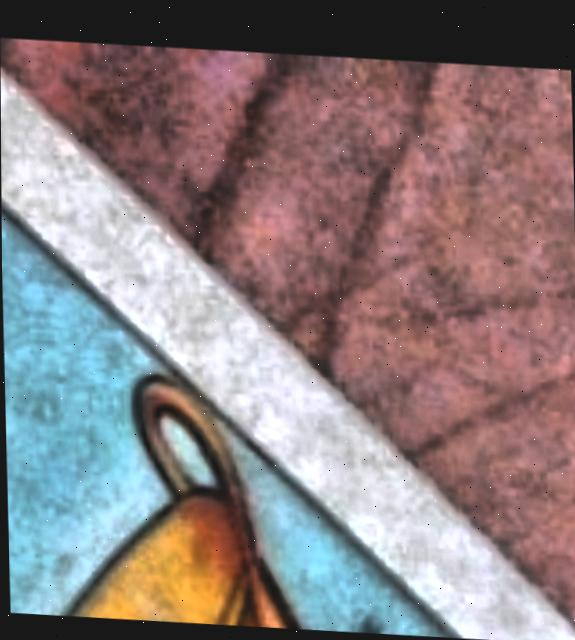El Cazo: (1, 209, 458, 628)
